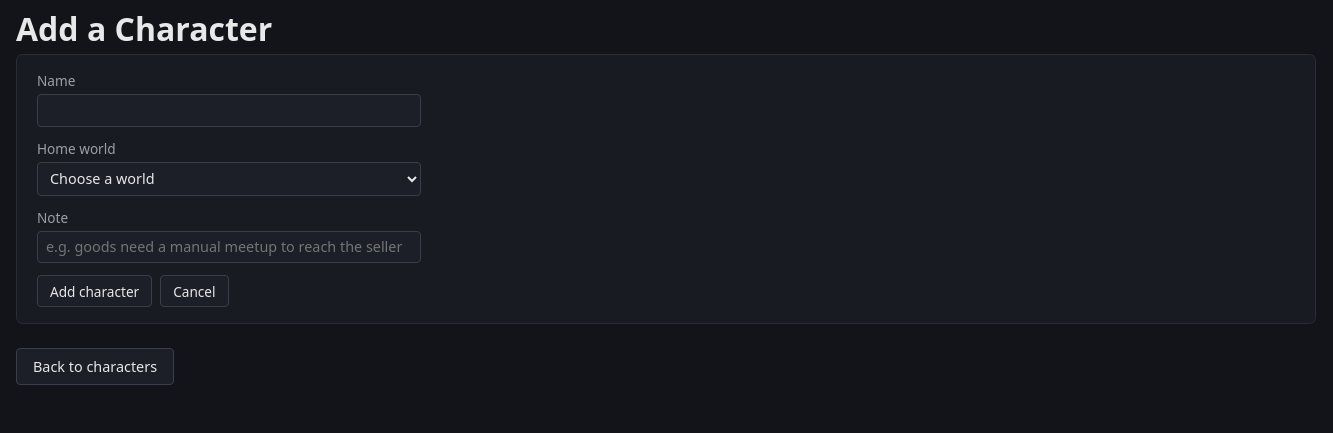
Test case: AddCharacterContainer › should stay put explaining a character the roster wouldn't take, adding nothing
The width and height of the screenshot is (1333, 433).
Type "Alice" into the field labelled "Name" at coordinates (229, 110), box [37,94,421,127]
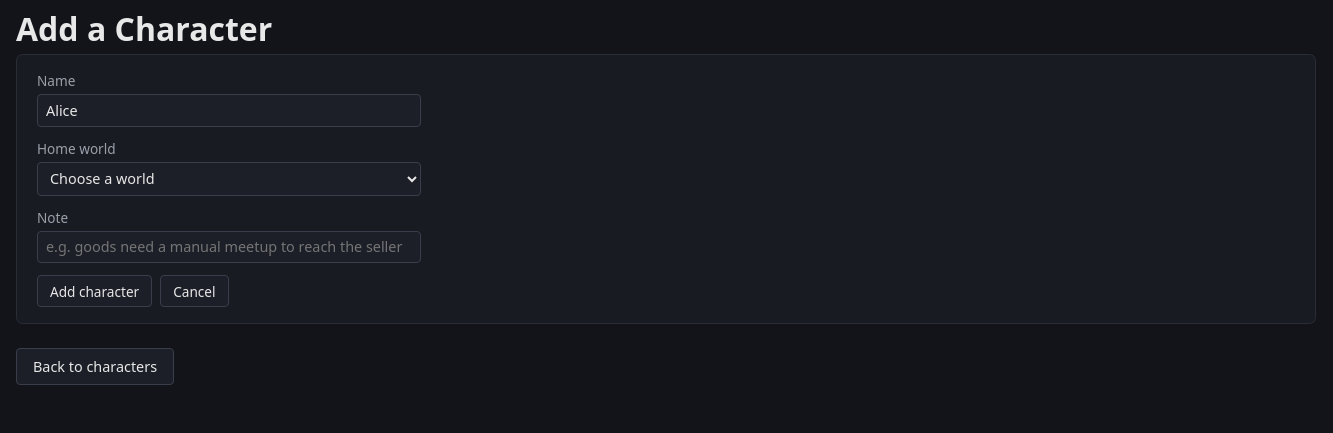
Select "Raiden" in the dropdown labelled "Home world" at coordinates (229, 179), box [37,162,421,196]
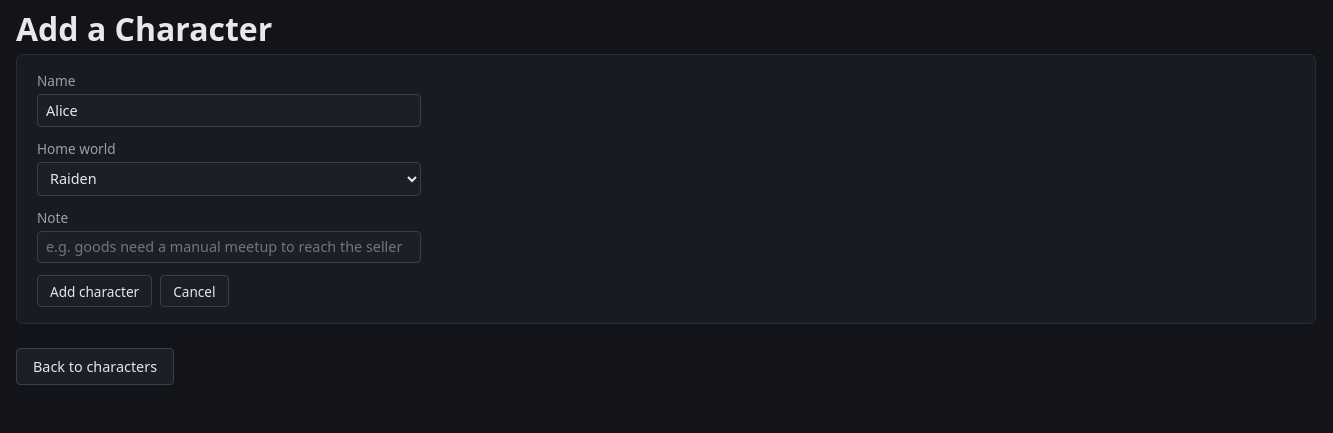
Click the button "Add character" at coordinates (95, 291), box [37,275,152,307]
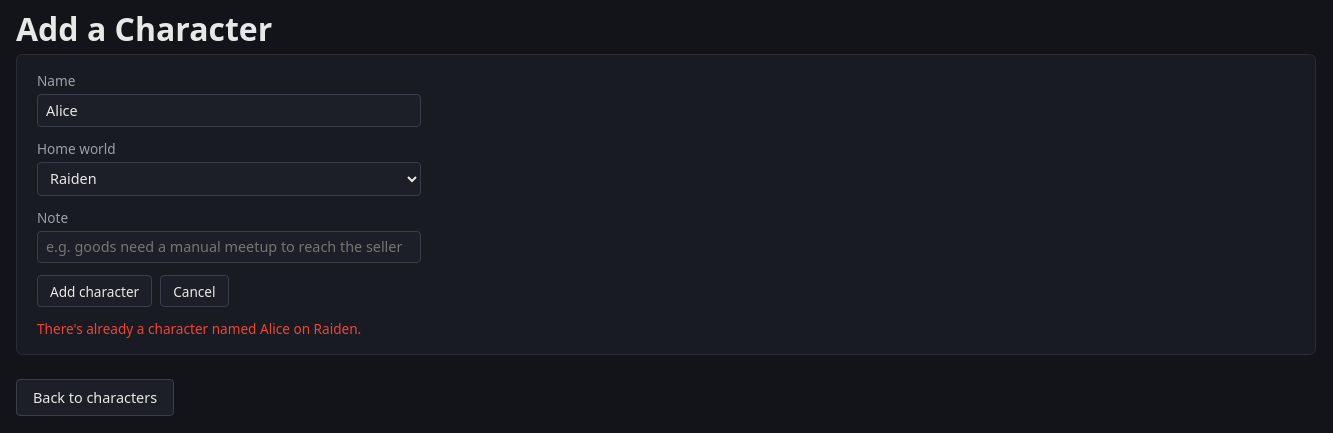
Check: the message reads "There's already a character named Alice on Raiden.", box [37,319,361,338]
